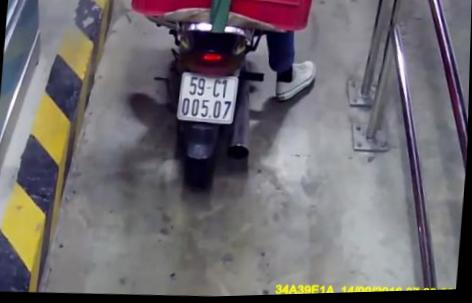LP: (175, 69, 241, 130)
